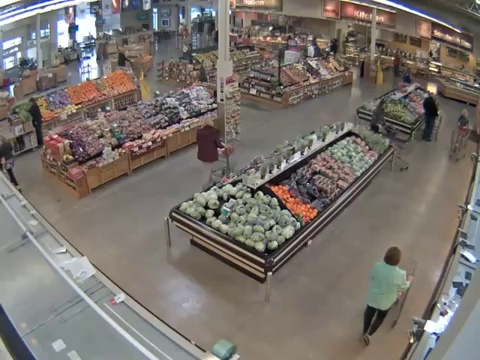face: (381, 102, 387, 111), (464, 110, 468, 118)
